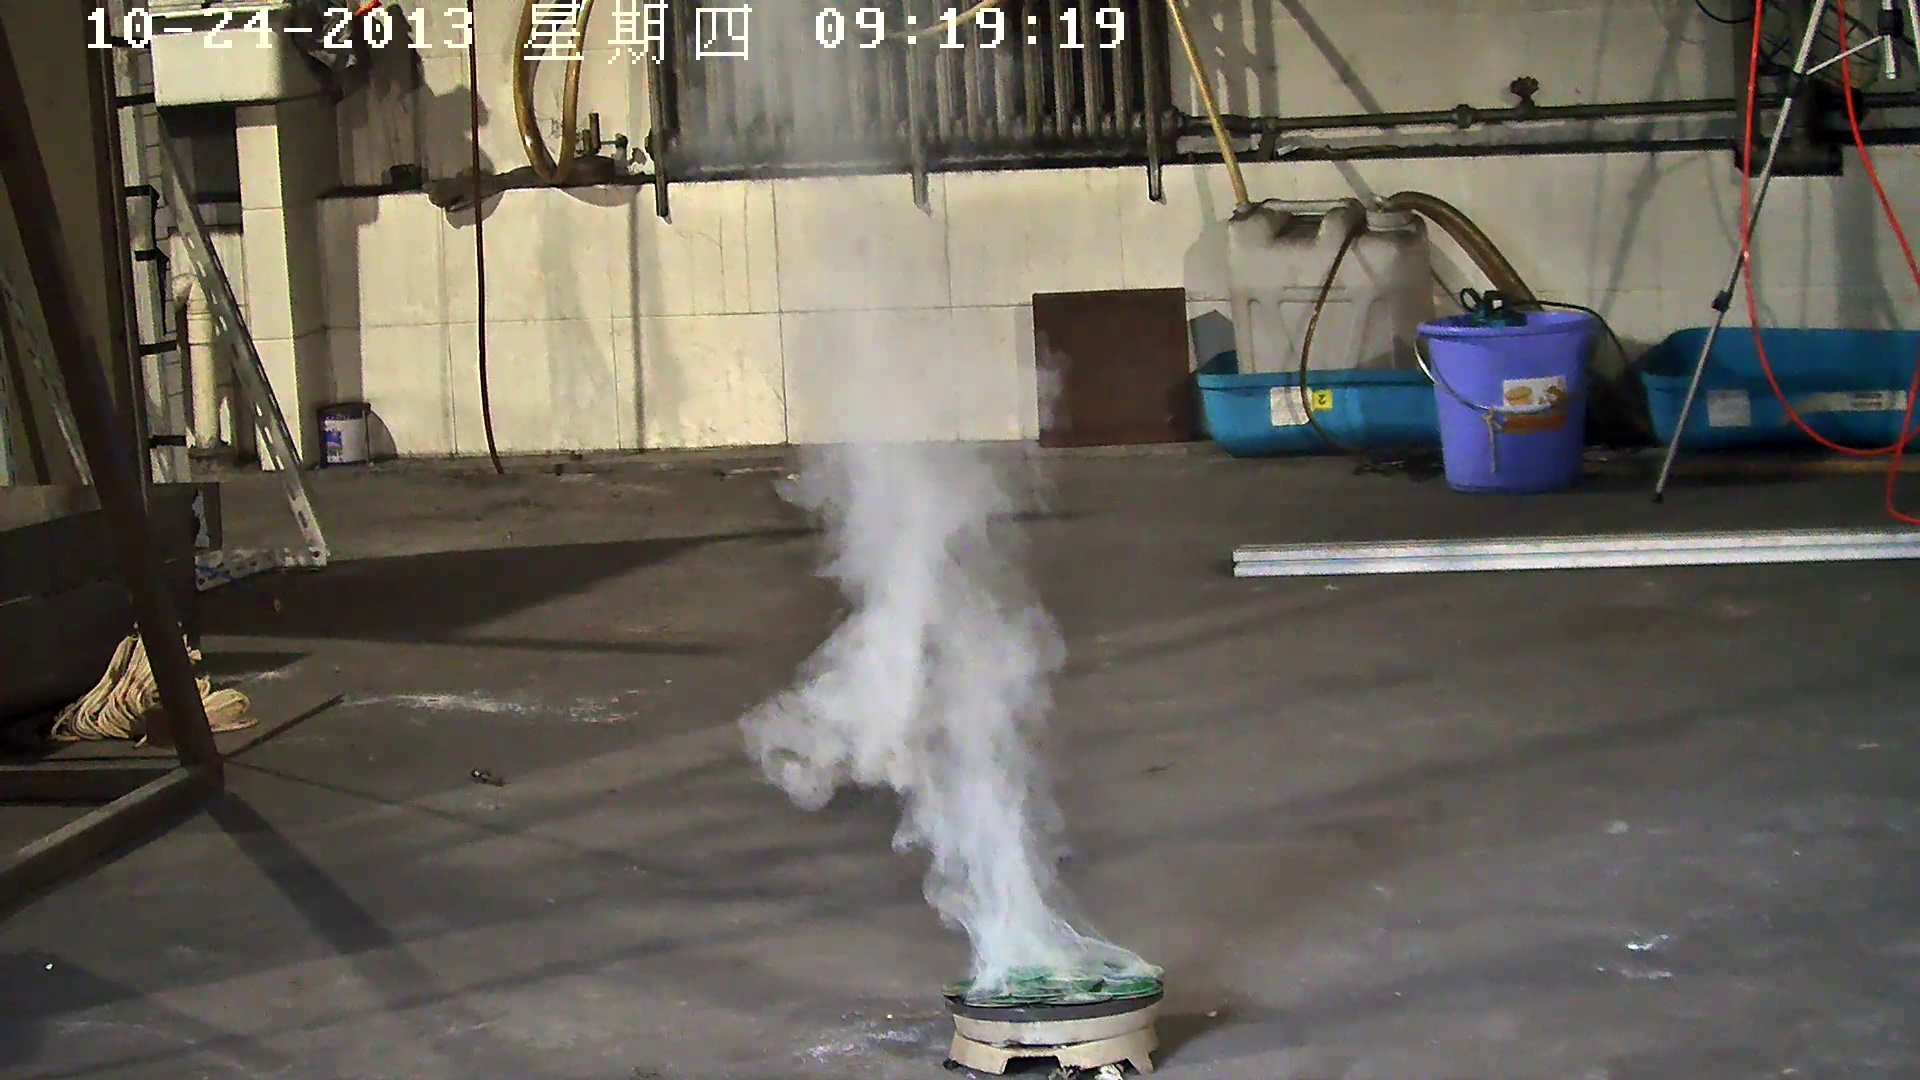smoke: (680, 38, 1145, 982)
